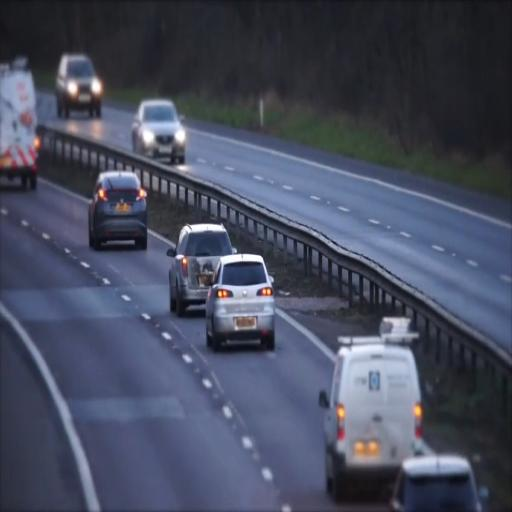car: (203, 252, 276, 350), (167, 222, 236, 316), (390, 452, 484, 511), (88, 169, 148, 251), (130, 98, 186, 164), (56, 52, 102, 117)
truck: (320, 320, 426, 502), (0, 59, 39, 189)
